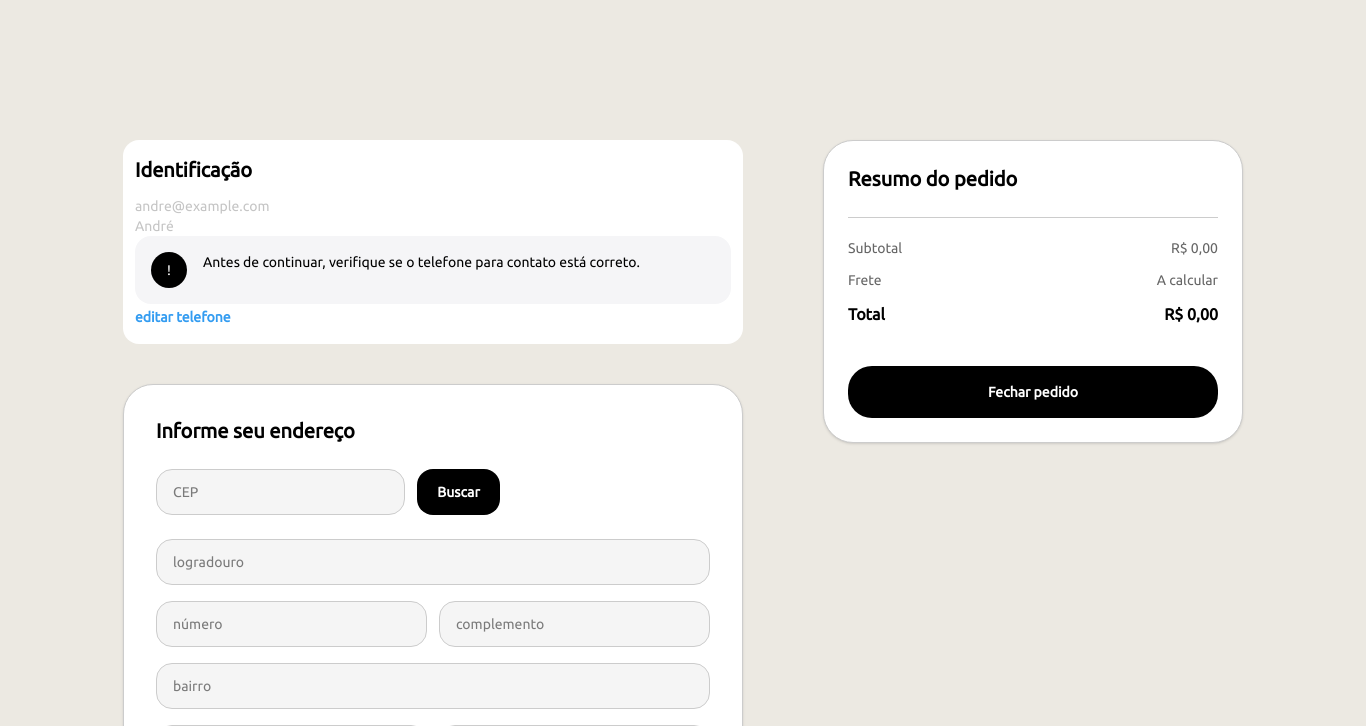
Test case: Checkout › impede a criação quando o carrinho está vazio
Click the button "Fechar pedido" at (1033, 392), box [848,366,1218,418]
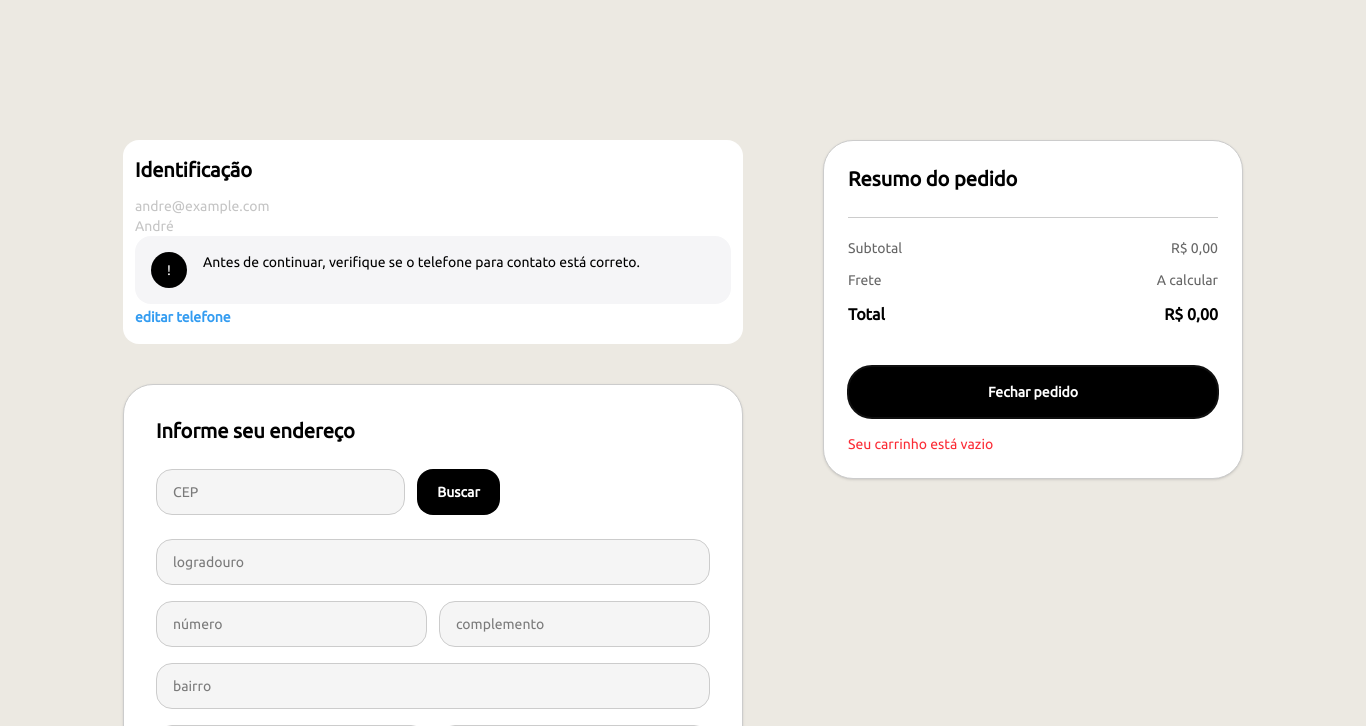
Result: the message reads "Seu carrinho está vazio" at [848,436,993,452]
